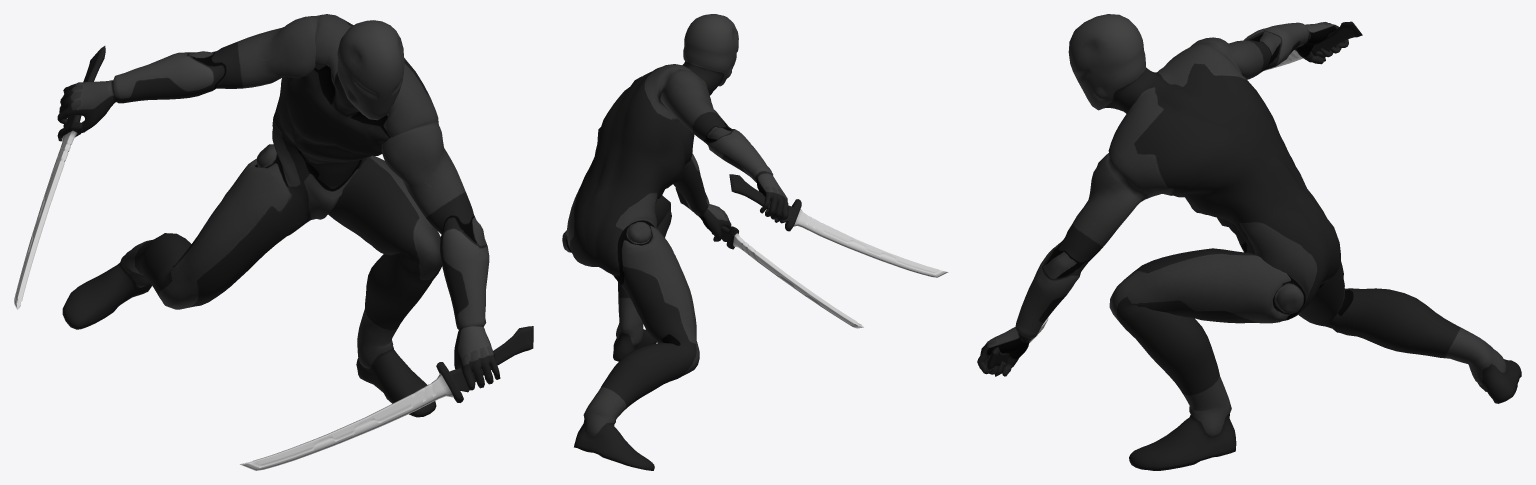
3 views of the same model, side by side, from view 1: azimuth 30°, elevation 25°; view 2: azimuth 150°, elevation 25°; view 3: azimuth 270°, elevation 25° (orthographic). The views are drawn at different scales.
Visible parts, largest first — view 1: Cyborg_Ninja_Killer, Sword_l, Sword_l001; view 2: Cyborg_Ninja_Killer, Sword_l001, Sword_l; view 3: Cyborg_Ninja_Killer, Sword_l001.
Boxes of the visible parts, x1,y1,x2,y2 form: Cyborg_Ninja_Killer: (57, 14, 500, 417); Sword_l: (240, 326, 533, 470); Sword_l001: (14, 46, 105, 309); Cyborg_Ninja_Killer: (562, 14, 788, 470); Sword_l001: (729, 174, 948, 277); Sword_l: (675, 187, 863, 328); Cyborg_Ninja_Killer: (977, 14, 1521, 470); Sword_l001: (1264, 21, 1362, 70).
Bounding box in the file's own units: 135 × 124 × 148.
2 materials, 2 textured.
